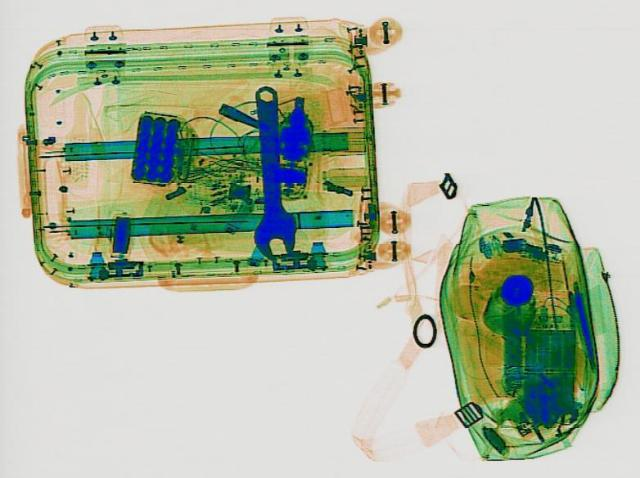Wrench: (245, 84, 297, 260)
